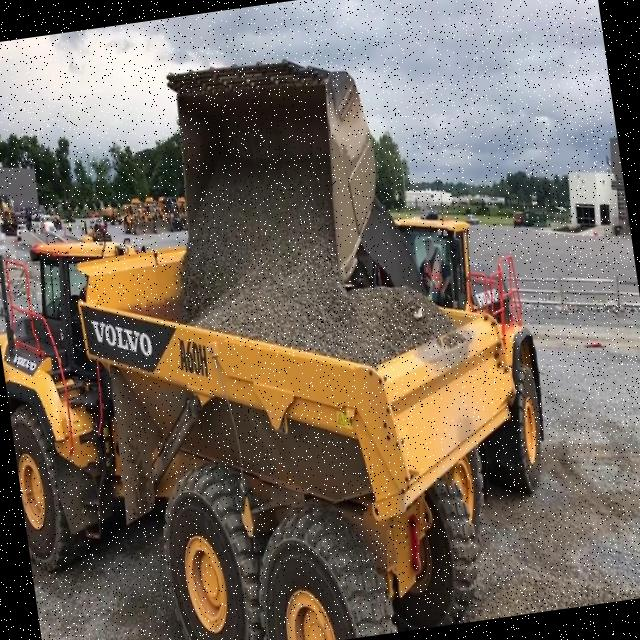Dump Truck: (0, 179, 547, 640)
Loader: (160, 21, 533, 336)
